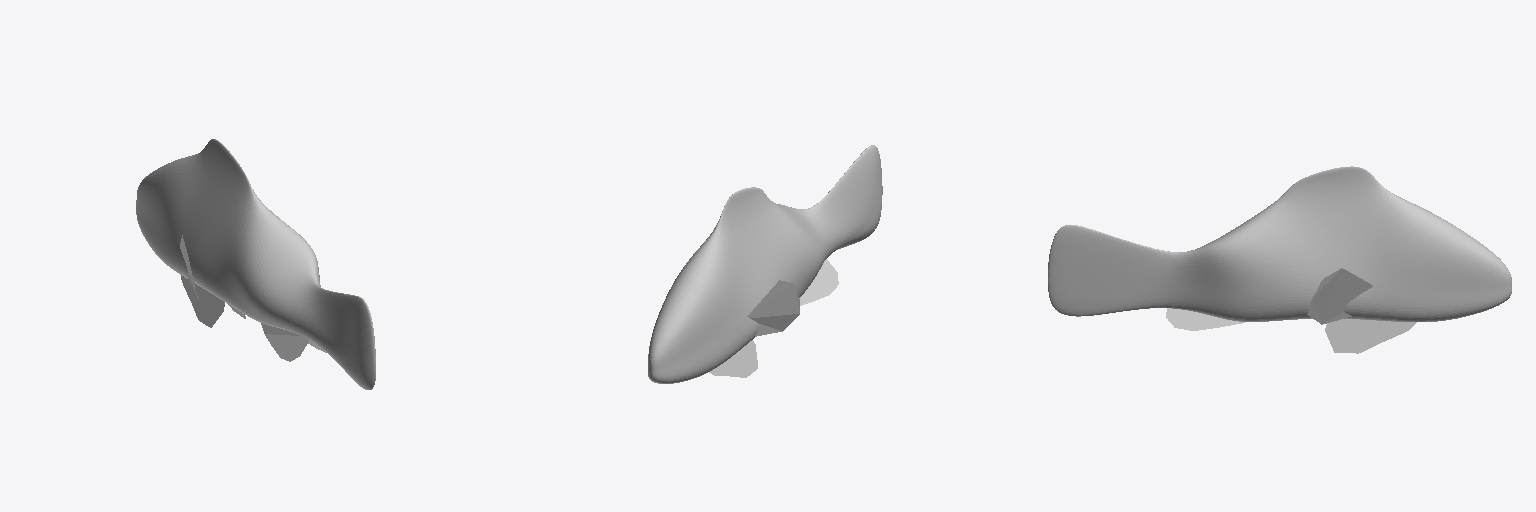
Rendered from clownfishmid.obj.
3 renders of one model, left to right at view 1: azimuth 30°, elevation 25°; view 2: azimuth 150°, elevation 25°; view 3: azimuth 270°, elevation 25°, orthographic.
Parts seen in each view (by area): view 1: Cube, Cube.004, Cube.002; view 2: Cube, Cube.001, Cube.004, Cube.002; view 3: Cube, Cube.004, Cube.001, Cube.002.
Boxes of the visible parts, box(x1,y1,x2,y2) form: Cube: box(136, 139, 375, 389); Cube.004: box(181, 275, 245, 327); Cube.002: box(261, 323, 326, 361); Cube: box(648, 145, 882, 383); Cube.001: box(747, 280, 799, 336); Cube.004: box(709, 340, 757, 377); Cube.002: box(799, 259, 838, 305); Cube: box(1048, 166, 1511, 321); Cube.004: box(1325, 319, 1416, 353); Cube.001: box(1307, 268, 1372, 324); Cube.002: box(1166, 308, 1244, 330).
Size of the model in its own units: 0.3137 by 0.5577 by 1.32.